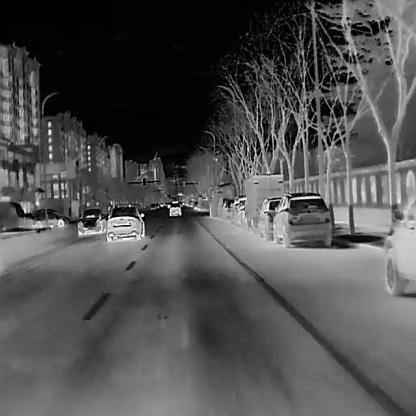car: (382, 194, 416, 293), (272, 190, 332, 246), (245, 173, 284, 229), (106, 203, 145, 242), (254, 195, 281, 239), (76, 207, 107, 235), (206, 185, 229, 216), (34, 207, 69, 227), (231, 196, 245, 227), (18, 212, 42, 229), (221, 197, 233, 220), (168, 199, 180, 215), (191, 200, 198, 210), (150, 202, 156, 209), (178, 199, 183, 206), (166, 200, 170, 206), (155, 202, 159, 207), (159, 202, 163, 206)
